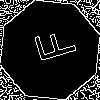F: (25, 25, 78, 67)
